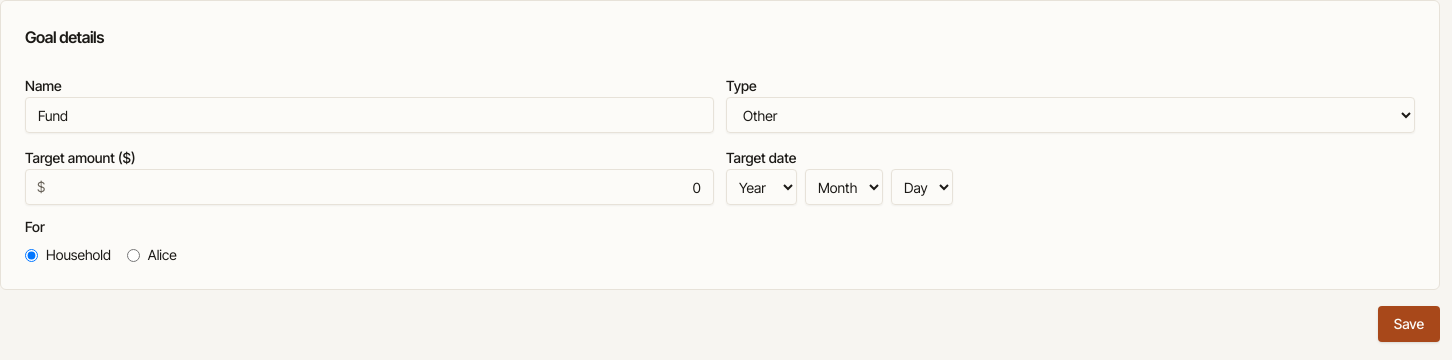
Test case: GoalForm — MoneyInput adoption (round-3 E6) › the target amount formats with the house MoneyInput
This screenshot has width=1452, height=360.
Replace the text in the field labelled "Target amount ($)" with "25000" at (370, 187), box [25,169,714,205]
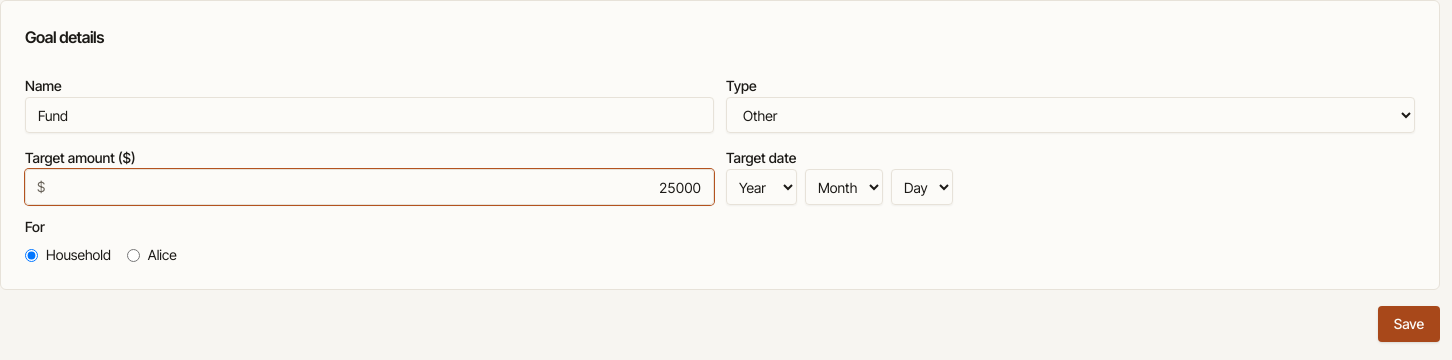
Press Tab
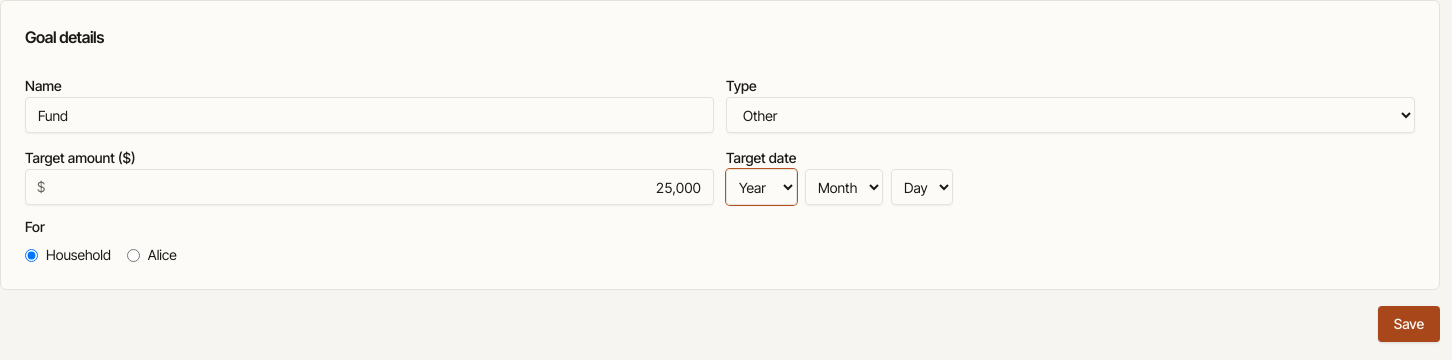
Result: the field labelled "Target amount ($)" holds "25,000" at [25,169,714,205]
